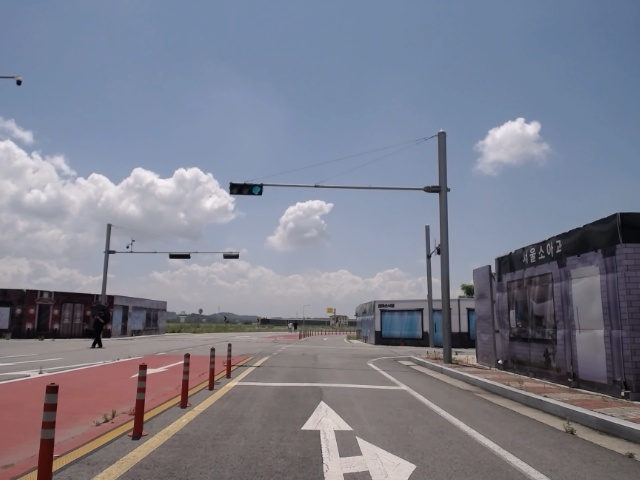green_3: (230, 184, 262, 194)
